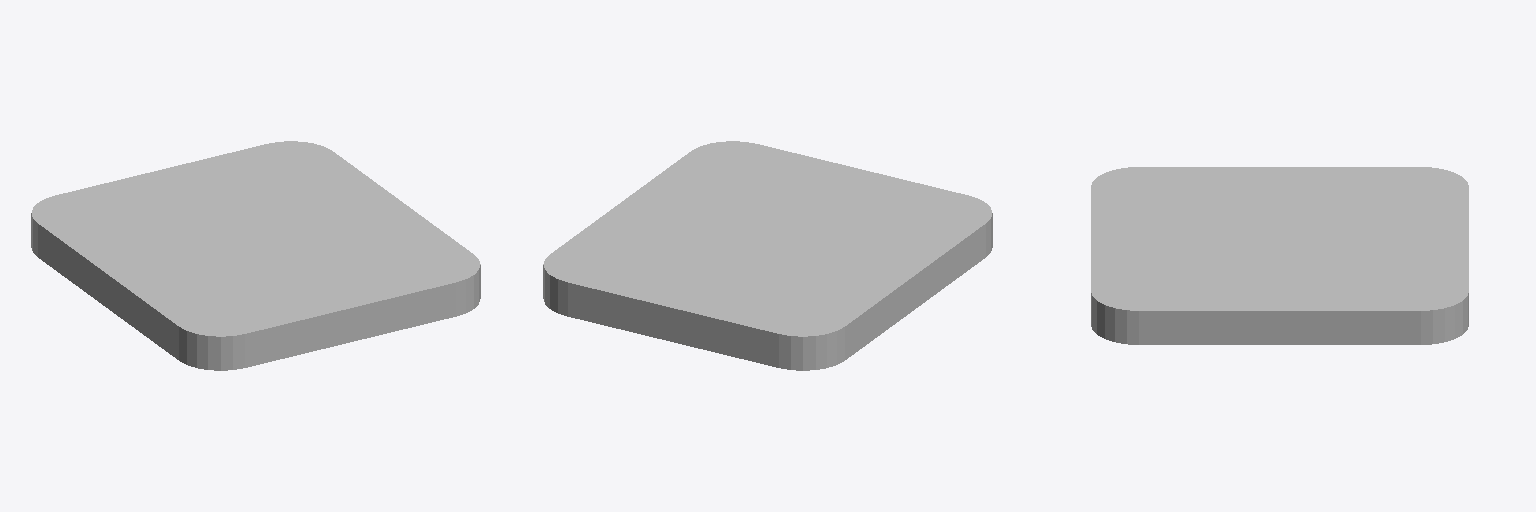
File: original-6.obj
The picture shows the model from 3 angles: view 1: azimuth 30°, elevation 25°; view 2: azimuth 150°, elevation 25°; view 3: azimuth 270°, elevation 25°; orthographic projection.
Visible parts, largest first — view 1: mesh5/mesh5-geometry#mesh5-geometry; view 2: mesh5/mesh5-geometry#mesh5-geometry; view 3: mesh5/mesh5-geometry#mesh5-geometry.
Boxes of the visible parts, x1,y1,x2,y2 form: mesh5/mesh5-geometry#mesh5-geometry: [31, 141, 480, 370]; mesh5/mesh5-geometry#mesh5-geometry: [543, 141, 992, 370]; mesh5/mesh5-geometry#mesh5-geometry: [1091, 167, 1468, 344].
Bounding box in the file's own units: 0.058 × 0.0064 × 0.0644.